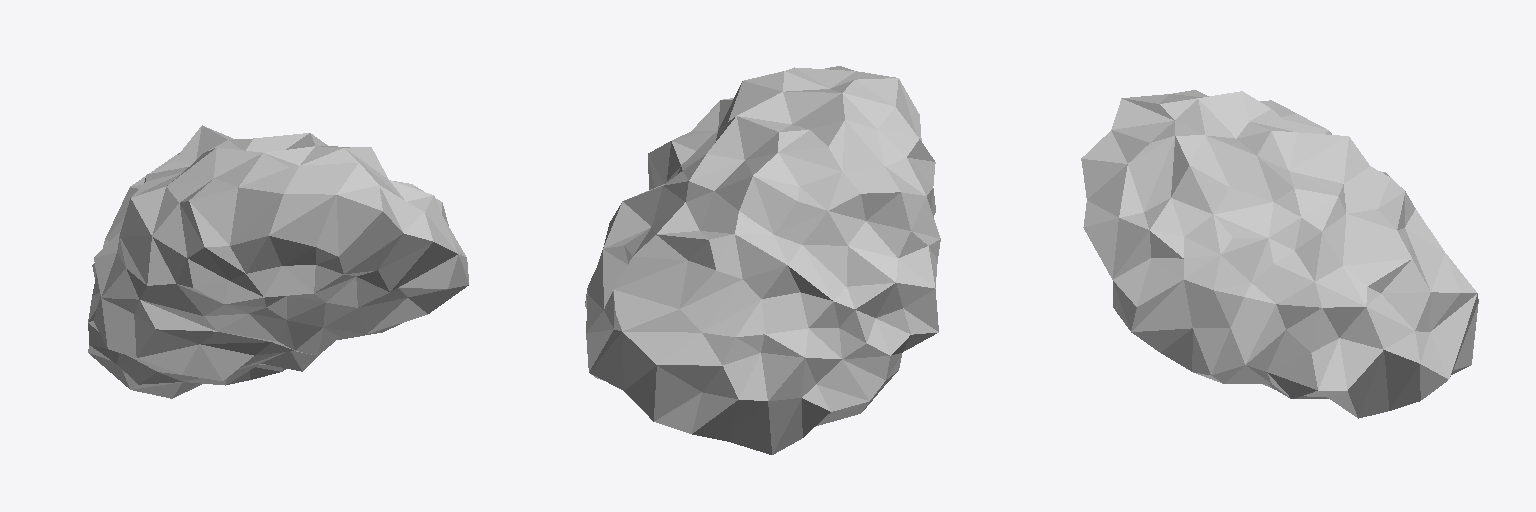
File: rock1.obj
The picture shows the model from 3 angles: view 1: azimuth 30°, elevation 25°; view 2: azimuth 150°, elevation 25°; view 3: azimuth 270°, elevation 25°; orthographic projection.
Visible parts, largest first — view 1: rock.003_rock.015; view 2: rock.003_rock.015; view 3: rock.003_rock.015.
Boxes of the visible parts, <box> form: rock.003_rock.015: <box>88,125,468,398</box>; rock.003_rock.015: <box>585,66,940,454</box>; rock.003_rock.015: <box>1081,90,1478,418</box>.
Bounding box in the file's own units: 5.95 × 4.99 × 6.35.